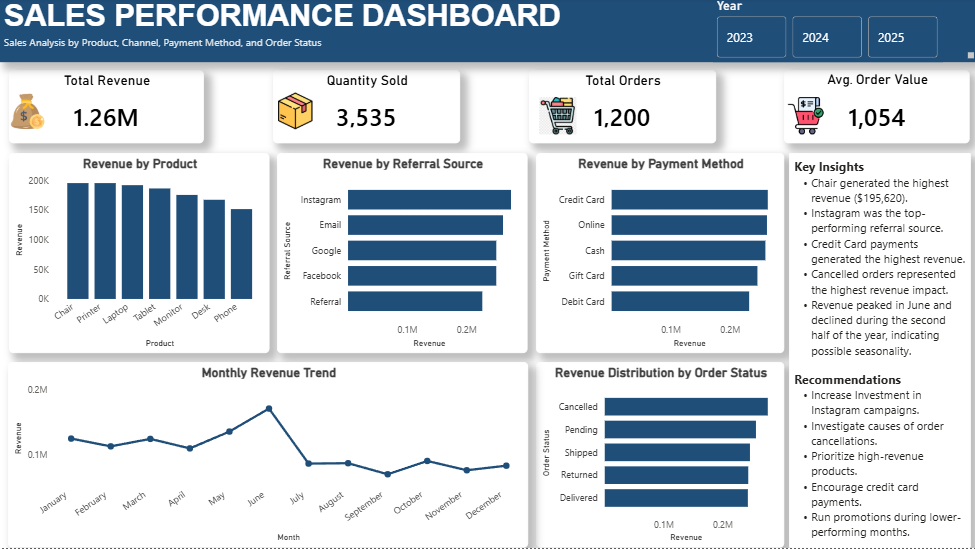

This screenshot's page, from the dashboard's own definition file:
{"tool":"powerbi","page":{"name":"Sales Performance Dashboard","canvas":[1280,720],"ordinal":0},"visuals":[{"type":"cardVisual","title":"Total Revenue","fields":{"Data":["Sum(Sheet1.TotalPrice)"]},"box":[11.8,94.3,255.3,95.6],"z":0},{"type":"cardVisual","title":"Quantity Sold","fields":{"Data":["Sum(Sheet1.Quantity)"]},"box":[357.1,94.3,244.8,95.6],"z":1000},{"type":"cardVisual","title":"Total Orders","fields":{"Data":["Sheet1.Total Orders Display"]},"box":[691.9,94.3,244.8,95.6],"z":2000},{"type":"cardVisual","title":"Avg. Order Value","fields":{"Data":["Sheet1.AOV"]},"box":[1026.7,93.6,243.4,96.5],"z":3000},{"type":"columnChart","title":"Revenue by Product","fields":{"Category":["Sheet1.Product"],"Y":["Sum(Sheet1.TotalPrice)"]},"box":[11.5,203,341.3,262.1],"z":4000},{"type":"barChart","title":"Revenue by Referral Source","fields":{"Category":["Sheet1.ReferralSource"],"Y":["Sum(Sheet1.TotalPrice)"]},"box":[362.9,203,328.3,262.1],"z":5000},{"type":"barChart","title":"Revenue by Payment Method","fields":{"Category":["Sheet1.PaymentMethod"],"Y":["Sum(Sheet1.TotalPrice)"]},"box":[701.3,203,325.4,262.1],"z":6000},{"type":"barChart","title":"Revenue Distribution by Order Status","fields":{"Category":["Sheet1.OrderStatus"],"Y":["Sum(Sheet1.TotalPrice)"]},"box":[701.3,476.6,325.4,243.4],"z":7000},{"type":"lineChart","title":"Monthly Revenue Trend","fields":{"Y":["Sum(Sheet1.TotalPrice)"],"Category":["Sheet1.MonthName"]},"box":[10.1,476.6,681.1,243.4],"z":8000},{"type":"textbox","title":"SALES PERFORMANCE DASHBOARD","box":[0,0,1280.3,85.1],"z":9000},{"type":"textbox","box":[1032.5,203,237.6,517],"z":10000},{"type":"advancedSlicerVisual","fields":{"Values":["Sheet1.Date.Variation.Date Hierarchy.Year"]},"box":[933.4,0,301.1,74.6],"z":11000},{"type":"image","box":[11.5,118.1,49,60.5],"z":12000},{"type":"image","box":[362.9,118.1,47.5,60.5],"z":13000},{"type":"image","box":[1026.7,129.6,57.6,49],"z":14000},{"type":"image","box":[701.3,129.6,57.6,49],"z":15000}]}

Visuals, with their boxes in screenshot pixels (x1, y1, x2, y2), scaled from the page's 1280x720 canvas onto the 975x549 screenshot:
"Total Revenue" cardVisual: [x1=9, y1=72, x2=203, y2=145]
"Quantity Sold" cardVisual: [x1=272, y1=72, x2=458, y2=145]
"Total Orders" cardVisual: [x1=527, y1=72, x2=714, y2=145]
"Avg. Order Value" cardVisual: [x1=782, y1=71, x2=967, y2=145]
"Revenue by Product" columnChart: [x1=9, y1=155, x2=269, y2=355]
"Revenue by Referral Source" barChart: [x1=276, y1=155, x2=526, y2=355]
"Revenue by Payment Method" barChart: [x1=534, y1=155, x2=782, y2=355]
"Revenue Distribution by Order Status" barChart: [x1=534, y1=363, x2=782, y2=548]
"Monthly Revenue Trend" lineChart: [x1=8, y1=363, x2=526, y2=548]
"SALES PERFORMANCE DASHBOARD" textbox: [x1=0, y1=0, x2=974, y2=65]
textbox: [x1=786, y1=155, x2=967, y2=548]
advancedSlicerVisual - Sheet1.Date.Variation.Date Hierarchy.Year: [x1=711, y1=0, x2=940, y2=57]
image: [x1=9, y1=90, x2=46, y2=136]
image: [x1=276, y1=90, x2=313, y2=136]
image: [x1=782, y1=99, x2=826, y2=136]
image: [x1=534, y1=99, x2=578, y2=136]
